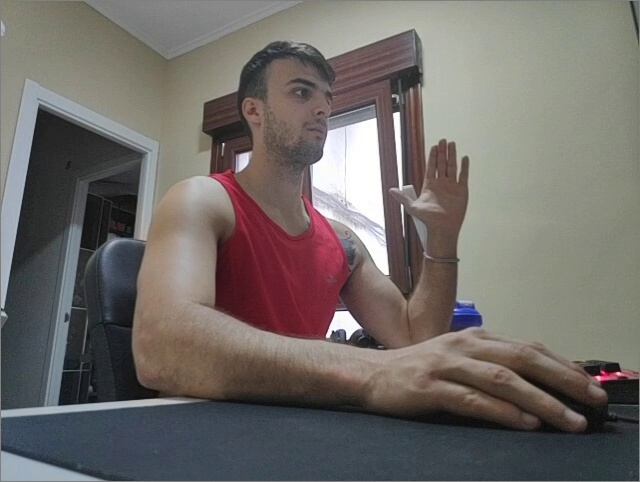Palm: (387, 125, 470, 231)
